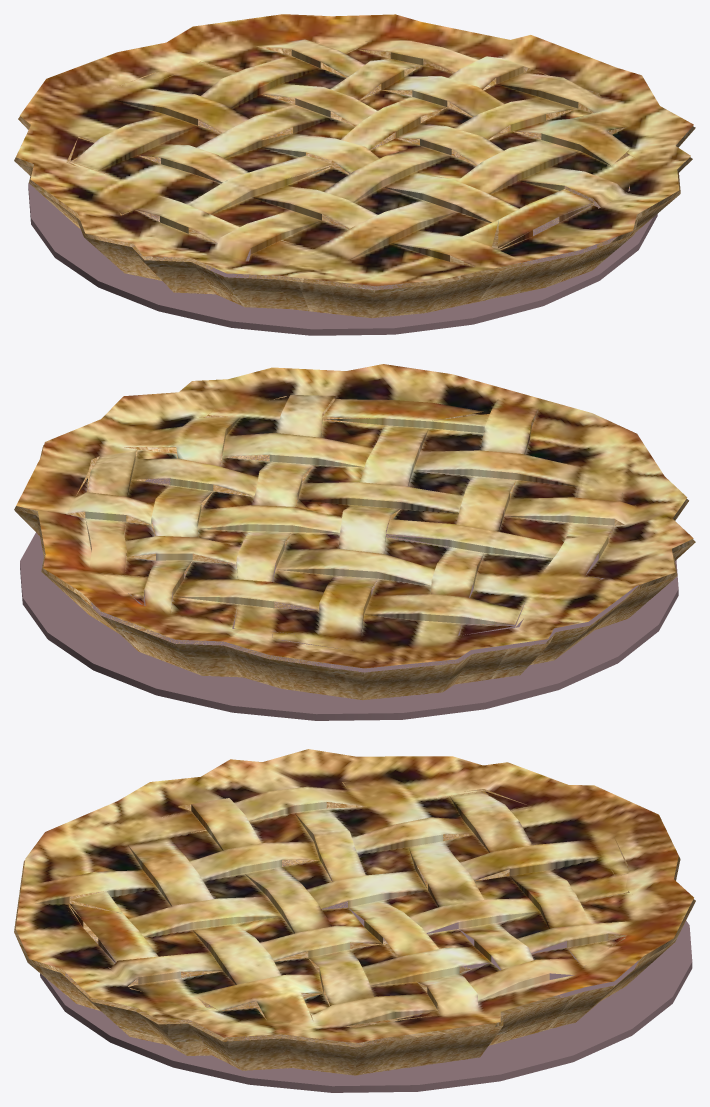
File: pie-lattice.glb
3 views of the same model, one above another, from view 1: azimuth 30°, elevation 25°; view 2: azimuth 150°, elevation 25°; view 3: azimuth 270°, elevation 25° (orthographic). The views are drawn at different scales.
Visible parts, largest first — view 1: pie-lattice; view 2: pie-lattice; view 3: pie-lattice.
Part boxes in pixels (x1,y1,x2,y2): pie-lattice: (14,14,695,335); pie-lattice: (14,364,695,720); pie-lattice: (14,749,695,1092).
Size of the model in its own units: 0.2973 by 0.0286 by 0.2895.
Materials: 3 (2 with a texture image).
